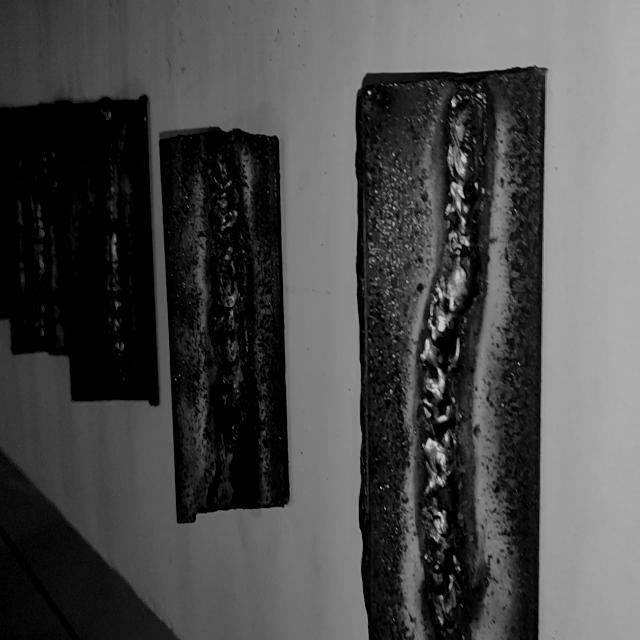Defect: (418, 306, 467, 617), (428, 95, 486, 292), (207, 377, 257, 514), (28, 121, 59, 202)
Welding Line: (420, 88, 485, 624), (212, 145, 246, 399), (102, 110, 126, 396), (30, 202, 46, 340)
Workpiece: (358, 61, 544, 640), (162, 135, 290, 512), (63, 100, 161, 407), (12, 106, 72, 352)
